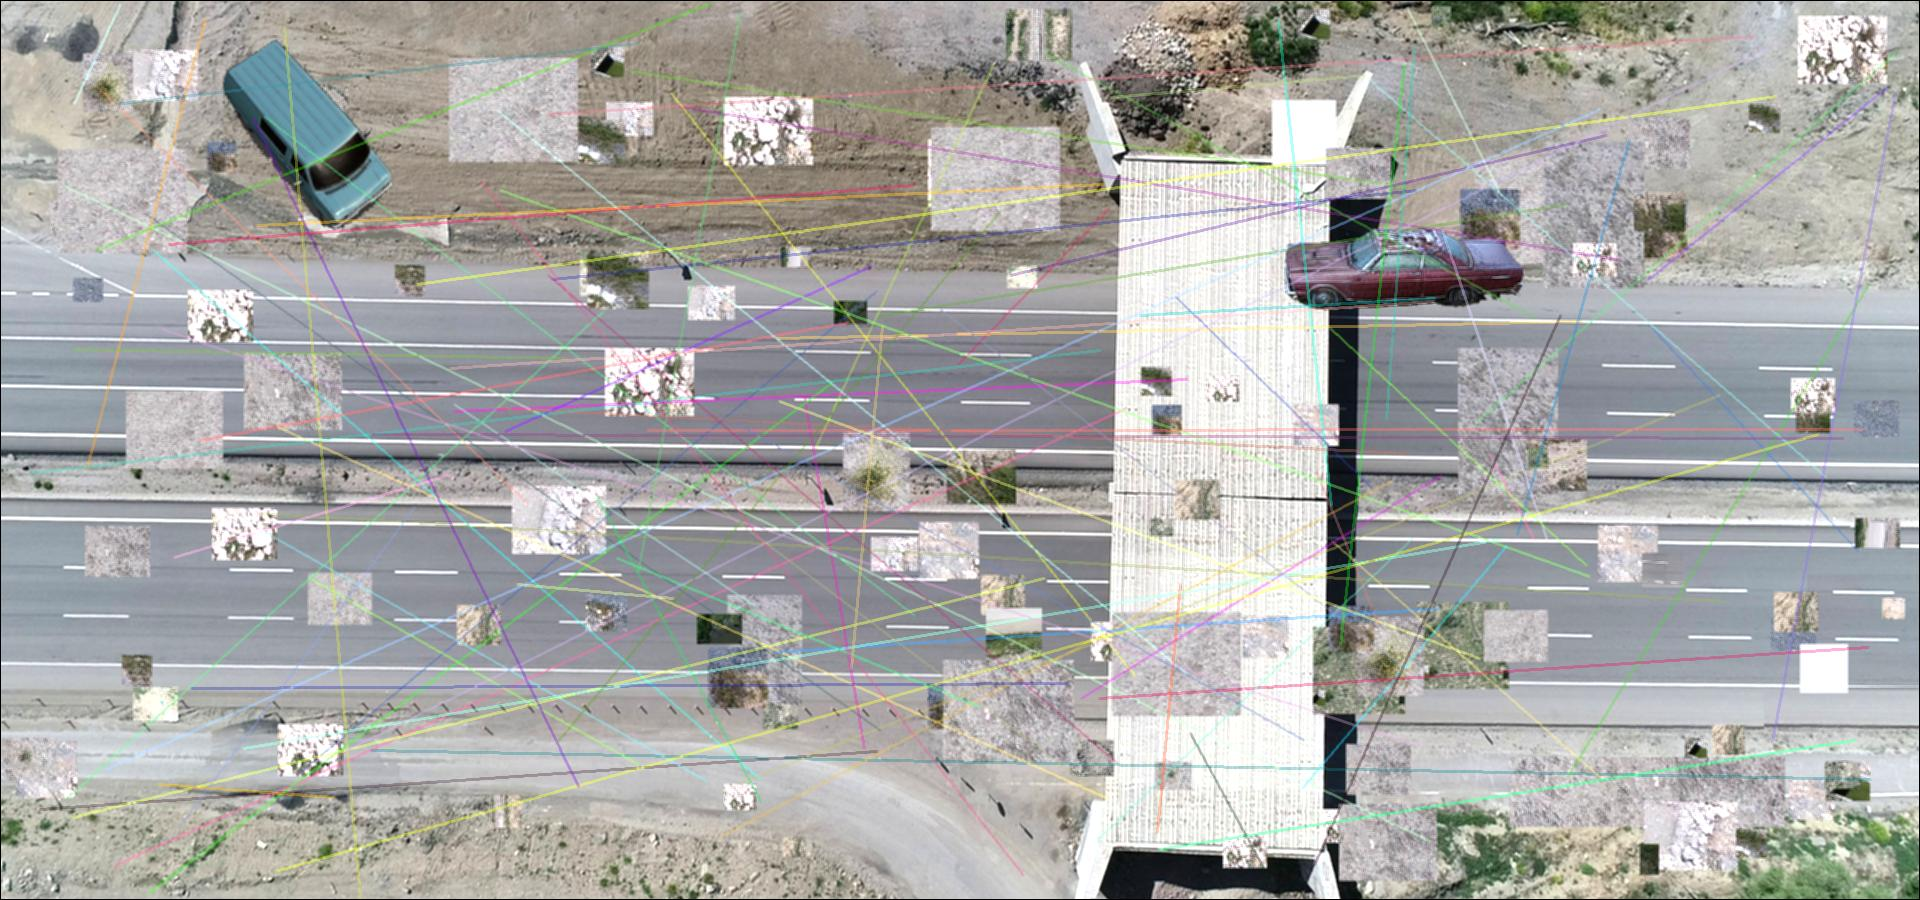arac: (214, 32, 391, 230), (1280, 229, 1528, 313)
